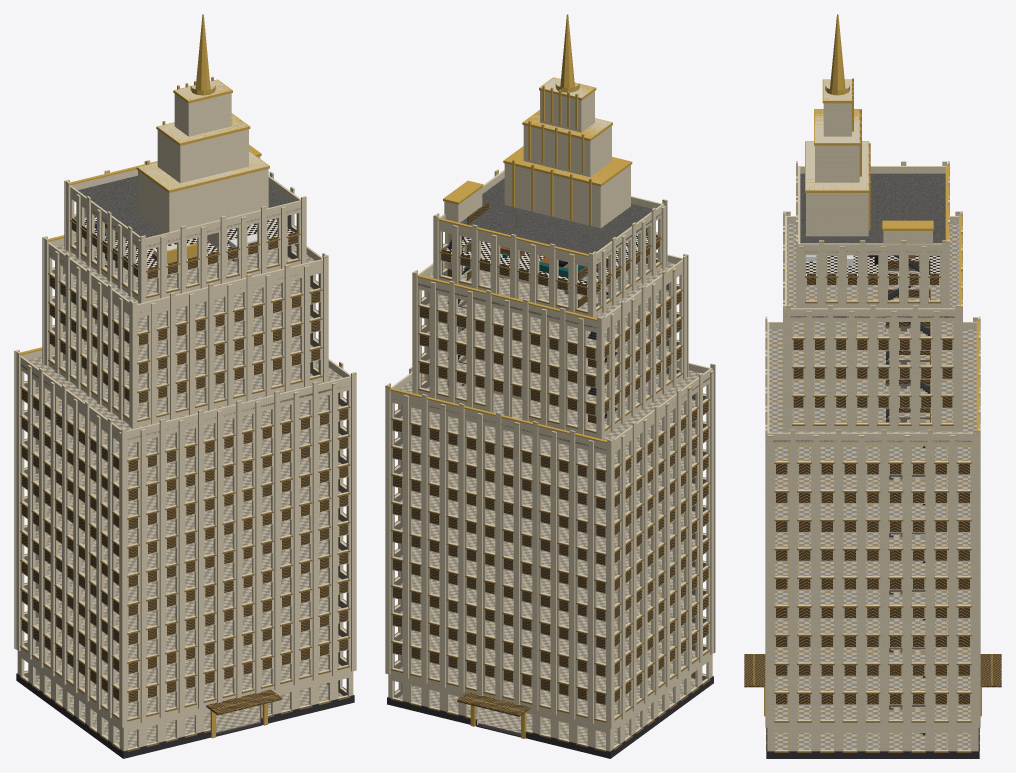
Rendered from stela_turo.glb.
3 views of the same model, side by side, from view 1: azimuth 30°, elevation 25°; view 2: azimuth 150°, elevation 25°; view 3: azimuth 270°, elevation 25° (orthographic). The views are drawn at different scales.
Parts seen in each view (by area): view 1: stela_turo; view 2: stela_turo; view 3: stela_turo.
Boxes of the visible parts, left/top/right/bottom form: stela_turo: left=14, top=14, right=356, bottom=758; stela_turo: left=385, top=14, right=715, bottom=758; stela_turo: left=744, top=14, right=1001, bottom=758.
Bounding box in the file's own units: 30.6 × 86.2 × 29.2.
Materials: 20 (20 with a texture image).
